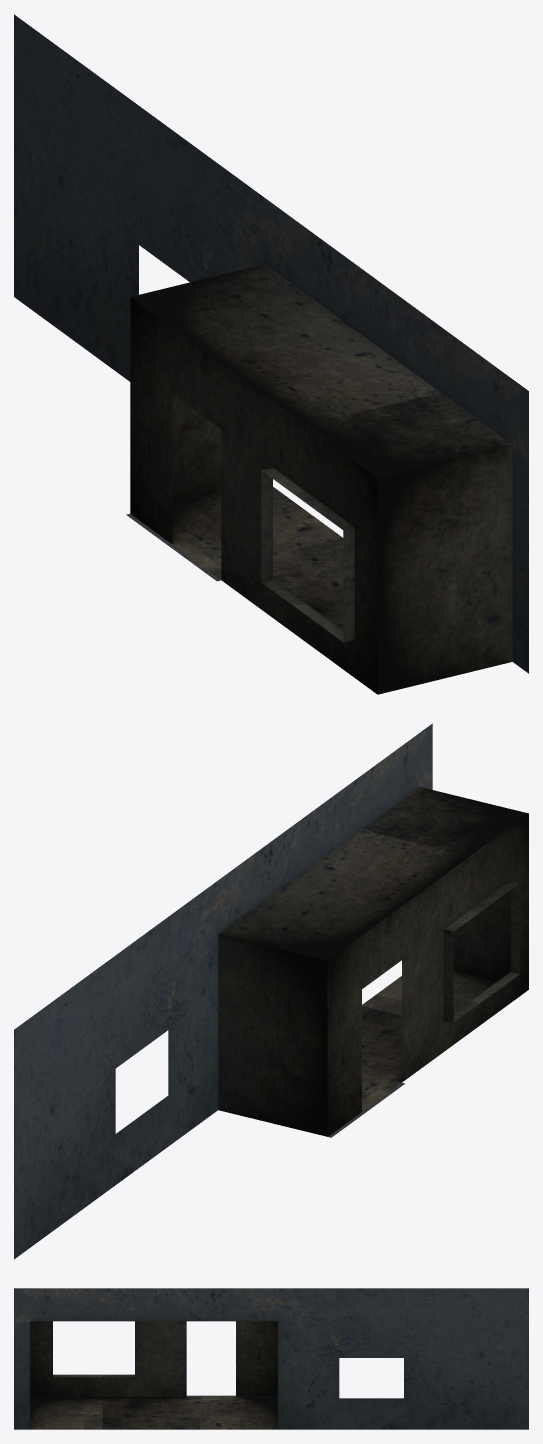
File: Wall_02.FBX
The picture shows the model from 3 angles, top to bottom: view 1: azimuth 30°, elevation 25°; view 2: azimuth 150°, elevation 25°; view 3: azimuth 270°, elevation 25°; orthographic projection. The views are drawn at different scales.
Parts seen in each view (by area): view 1: Wall_02; view 2: Wall_02; view 3: Wall_02.
Boxes of the visible parts, x1,y1,x2,y2 form: Wall_02: (14,14,528,694); Wall_02: (14,723,528,1259); Wall_02: (14,1288,528,1429).
Bounding box in the file's own units: 278 × 511 × 1688.
